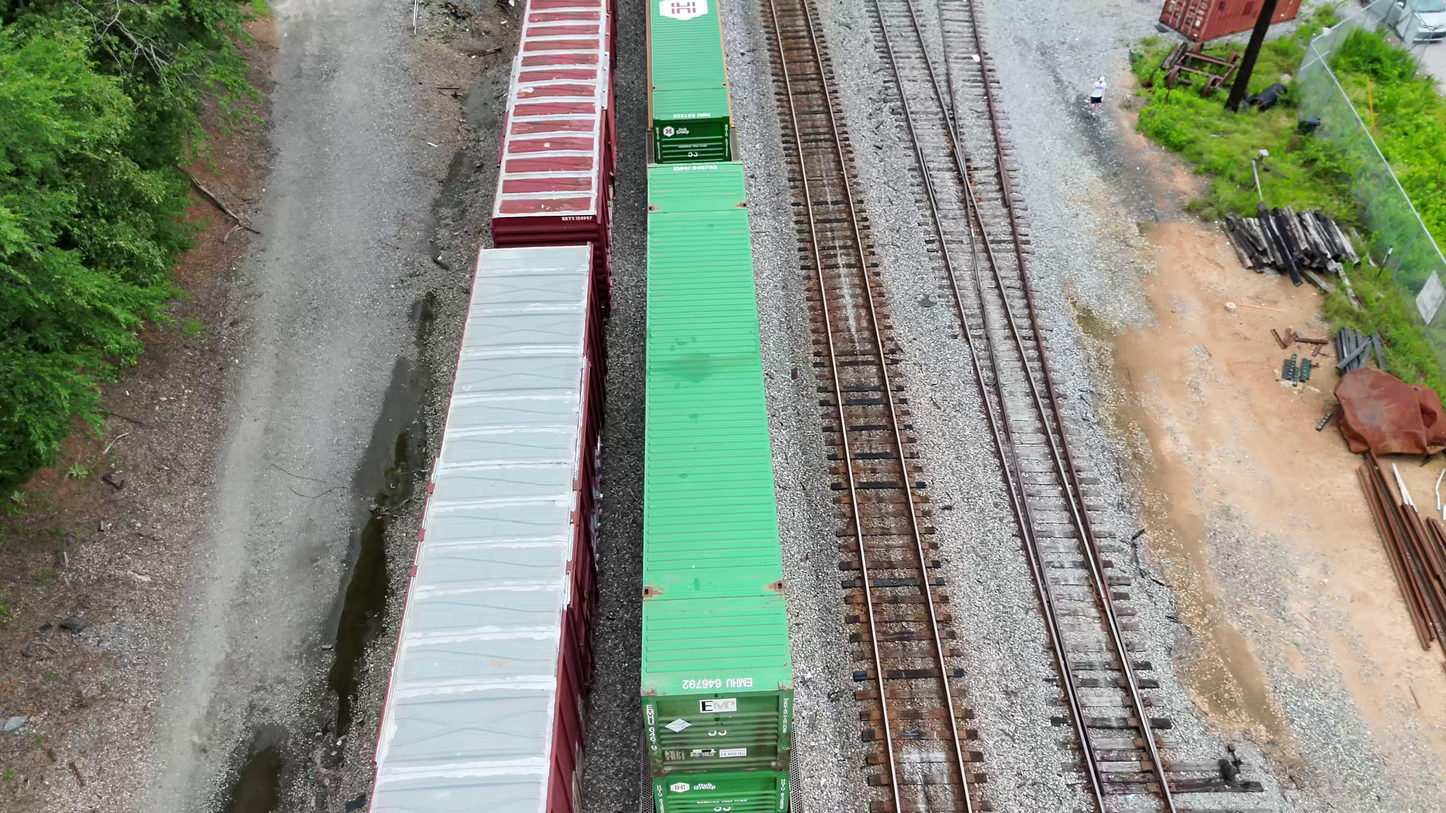human: (1088, 75, 1108, 117)
